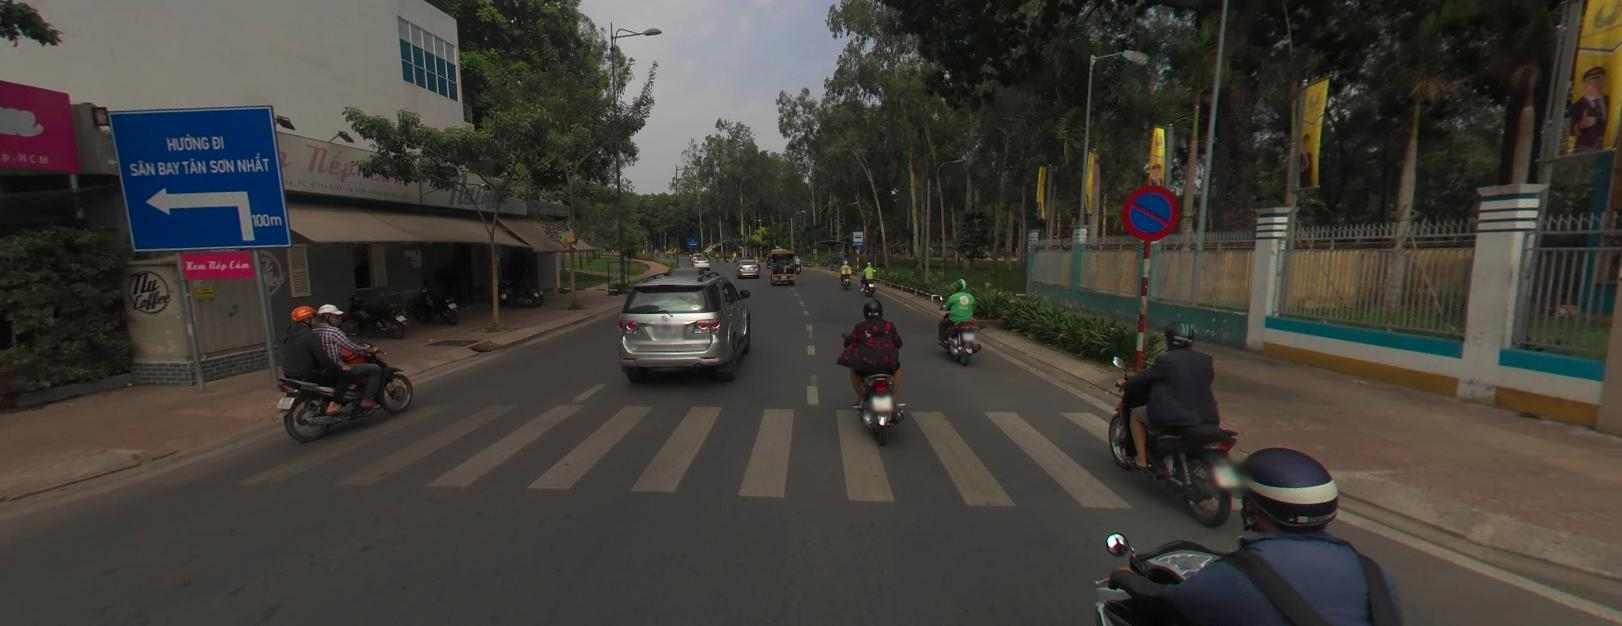Cam dung va do: (1122, 184, 1178, 239)
